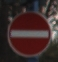No entry: (5, 5, 53, 57)
